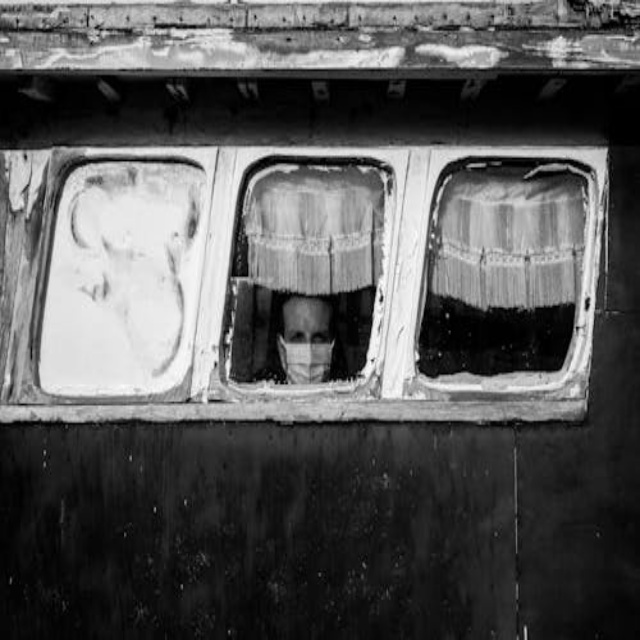Mascara: (278, 337, 335, 385)
Sin_gafas: (280, 319, 330, 342)
